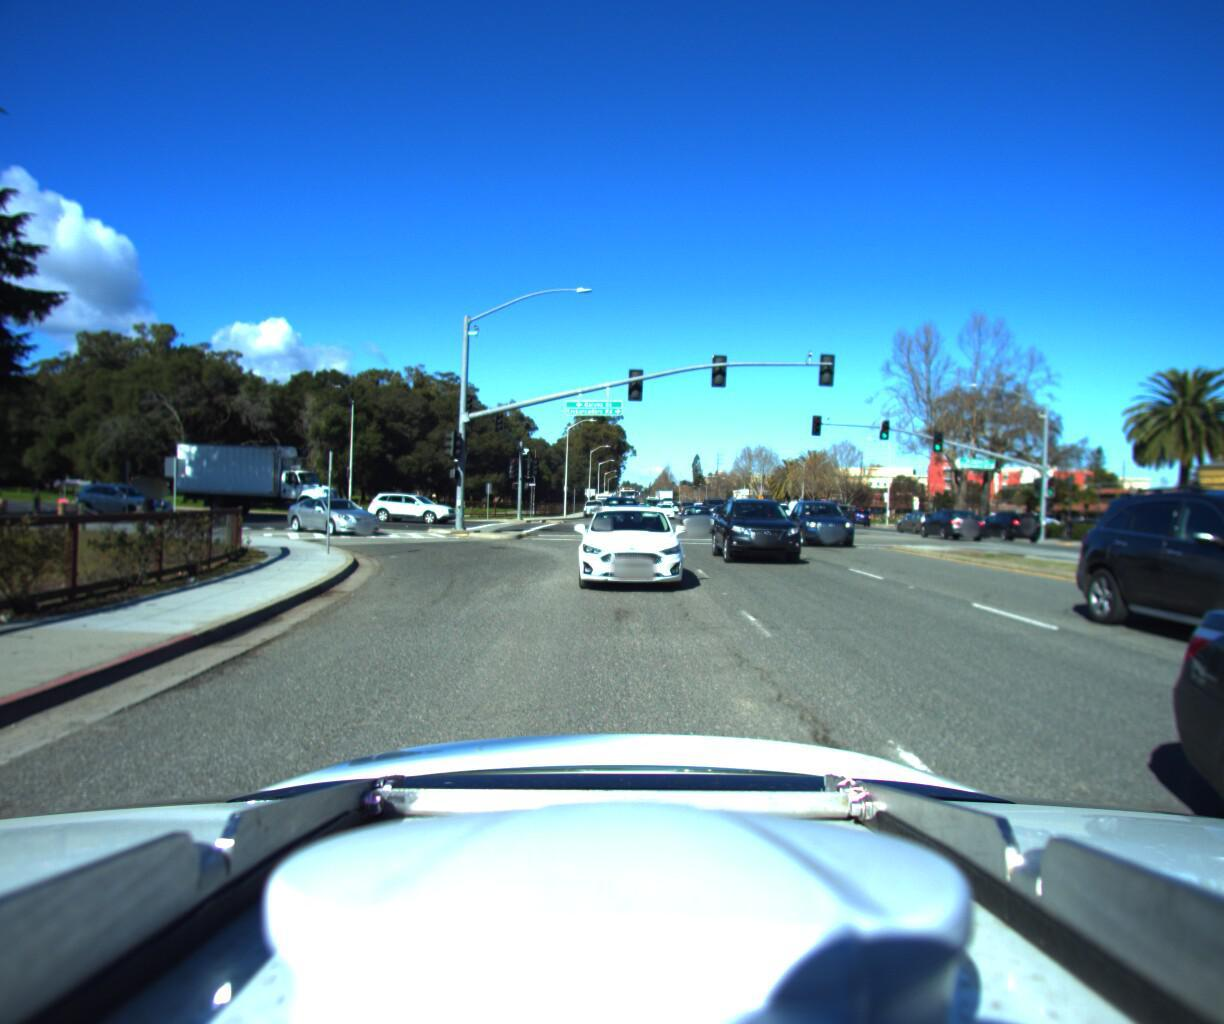bicycle: (126, 477, 193, 528)
car: (1121, 463, 1224, 735), (579, 491, 692, 586), (710, 486, 817, 565), (62, 476, 178, 518), (280, 489, 384, 532), (789, 492, 869, 545), (363, 485, 462, 519), (968, 502, 1040, 535), (913, 501, 985, 534), (675, 498, 722, 531), (888, 503, 941, 530), (808, 493, 857, 521), (1006, 508, 1067, 527), (757, 494, 798, 521), (777, 492, 809, 514), (842, 501, 872, 521), (616, 484, 636, 513), (654, 493, 677, 514)
truck: (163, 439, 346, 515)
